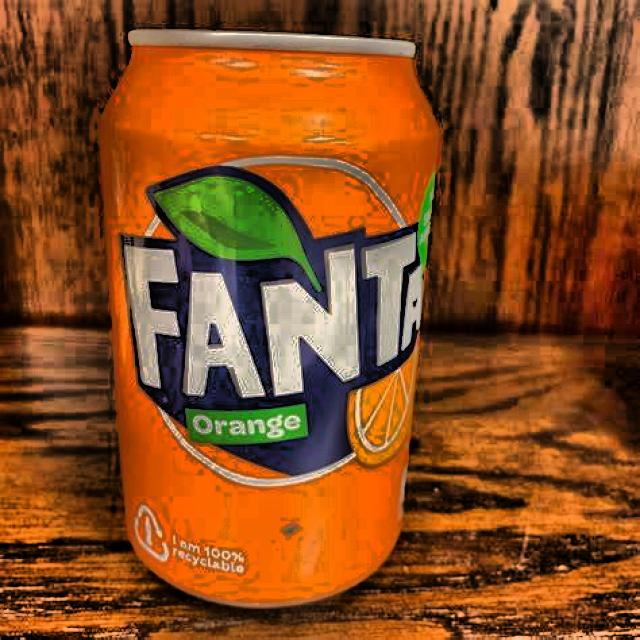Cans: (80, 5, 464, 621)
